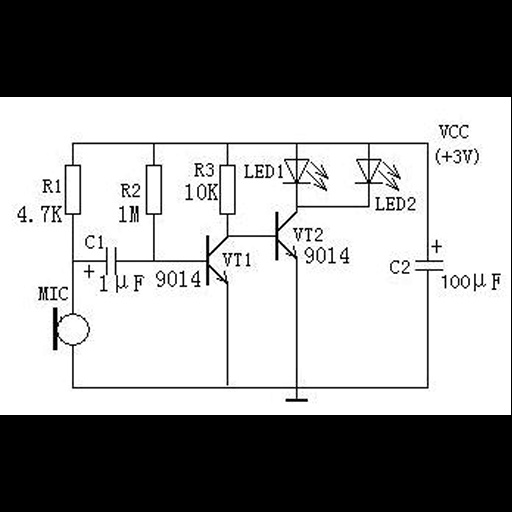firstpolarcapacitor: (413, 238, 447, 276), (83, 248, 123, 276)
firstresistance: (62, 162, 90, 220), (142, 161, 170, 219), (218, 162, 240, 217)
npn: (265, 205, 301, 266), (197, 230, 232, 290)
secondled: (351, 155, 407, 193), (284, 155, 332, 194)
